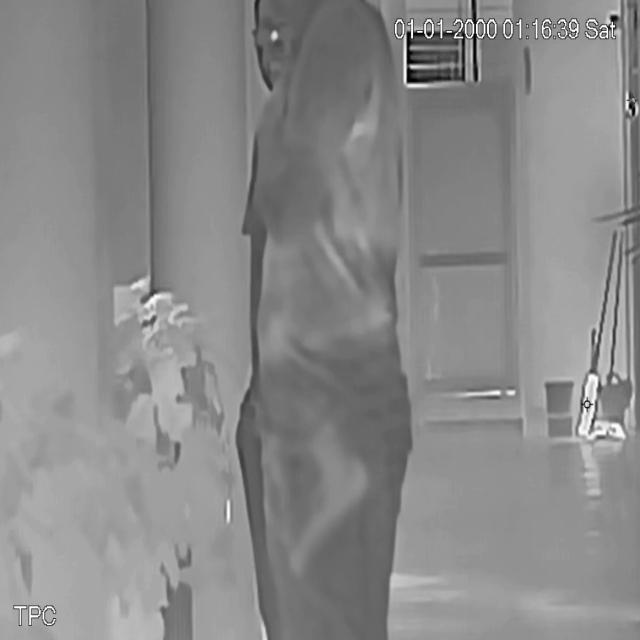Weapon: (277, 422, 376, 585)
